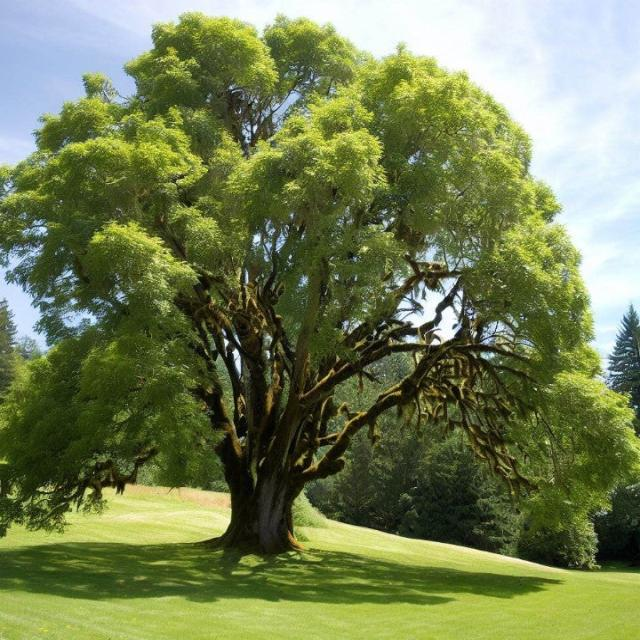Fraxinus latifolia: (0, 12, 640, 559)
